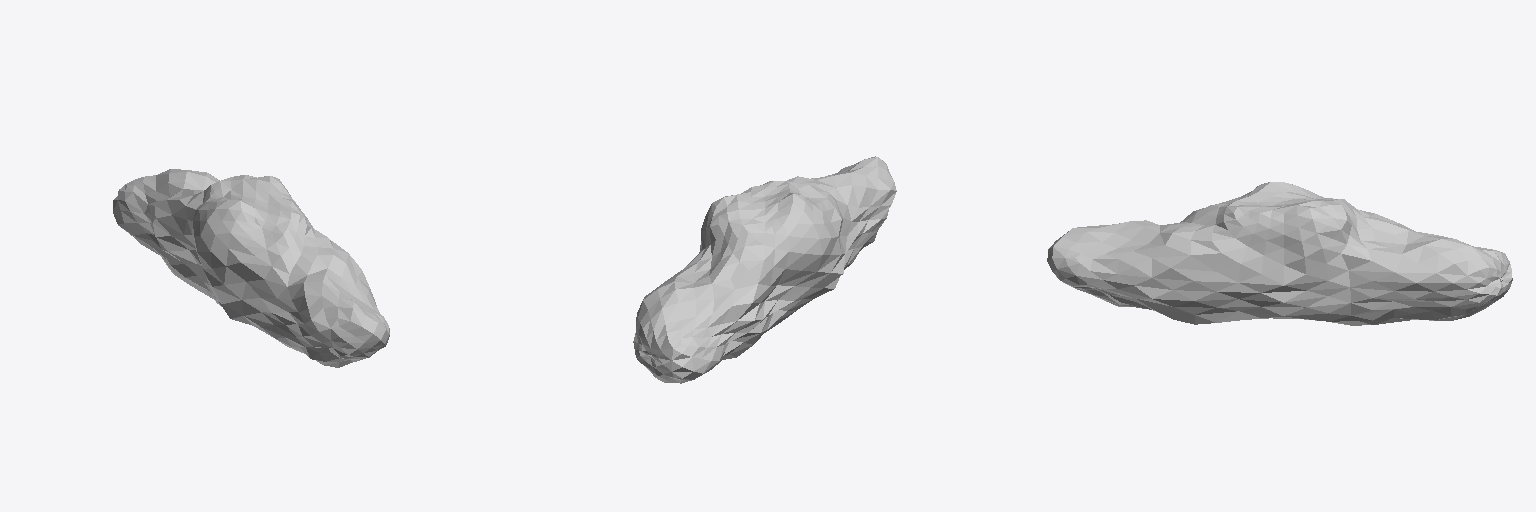
File: CloudLarge2.obj
3 renders of one model, left to right at view 1: azimuth 30°, elevation 25°; view 2: azimuth 150°, elevation 25°; view 3: azimuth 270°, elevation 25°, orthographic.
Parts seen in each view (by area): view 1: Cloud_Large_2; view 2: Cloud_Large_2; view 3: Cloud_Large_2.
Boxes of the visible parts, box(x1,y1,x2,y2) form: Cloud_Large_2: box(113, 169, 389, 367); Cloud_Large_2: box(633, 156, 896, 383); Cloud_Large_2: box(1047, 182, 1512, 325).
Bounding box in the file's own units: 2.87 × 3.09 × 10.19.